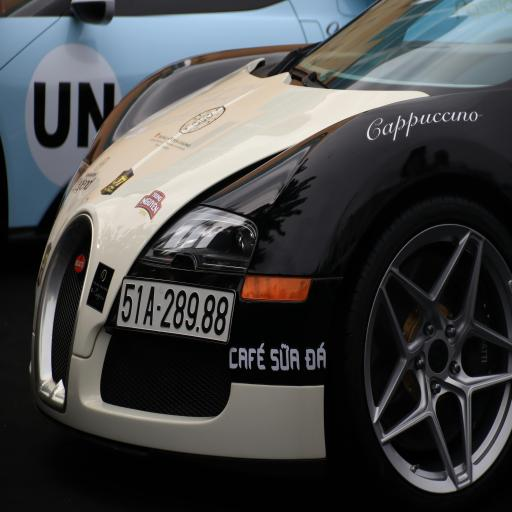place: (119, 285, 235, 348)
